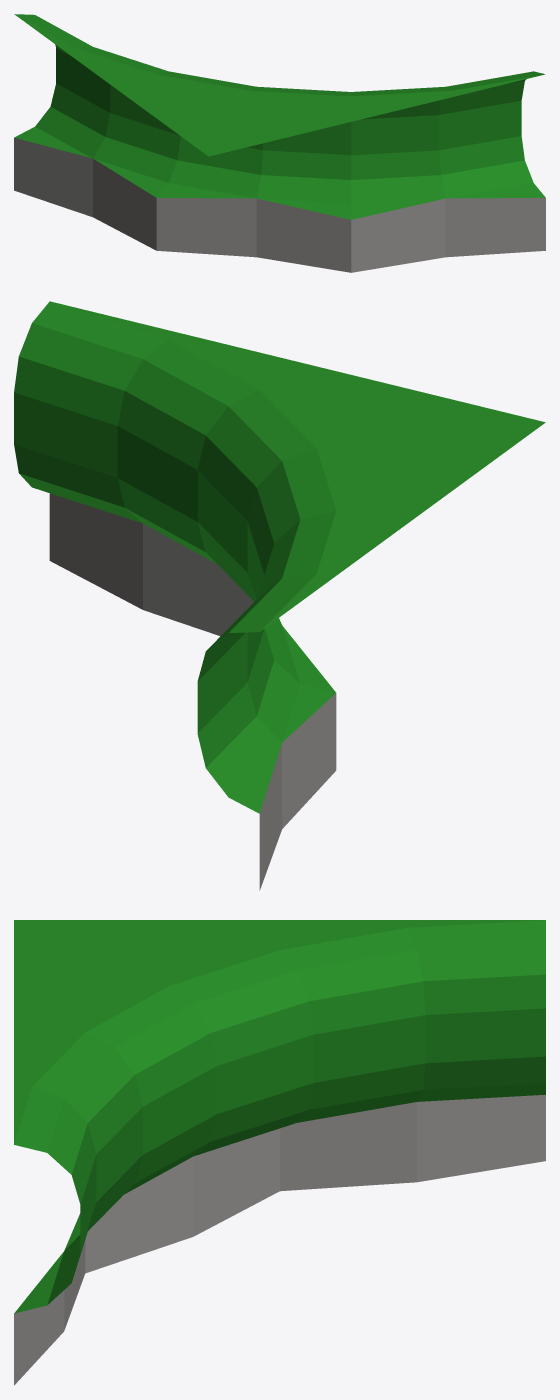
Rendered from Terrain_Cliff_Top_Corner_Inner_2x2.obj.
3 views of the same model, one above another, from view 1: azimuth 30°, elevation 25°; view 2: azimuth 150°, elevation 25°; view 3: azimuth 270°, elevation 25° (orthographic). The views are drawn at different scales.
Visible parts, largest first — view 1: Grass, Rock; view 2: Grass, Rock; view 3: Grass, Rock.
Boxes of the visible parts, bbox=[...] form: Grass: bbox=[14, 14, 545, 219]; Rock: bbox=[14, 137, 545, 272]; Grass: bbox=[14, 301, 545, 813]; Rock: bbox=[49, 493, 336, 890]; Grass: bbox=[14, 920, 545, 1313]; Rock: bbox=[14, 1094, 545, 1385].
Bounding box in the file's own units: 2 × 1 × 2.
